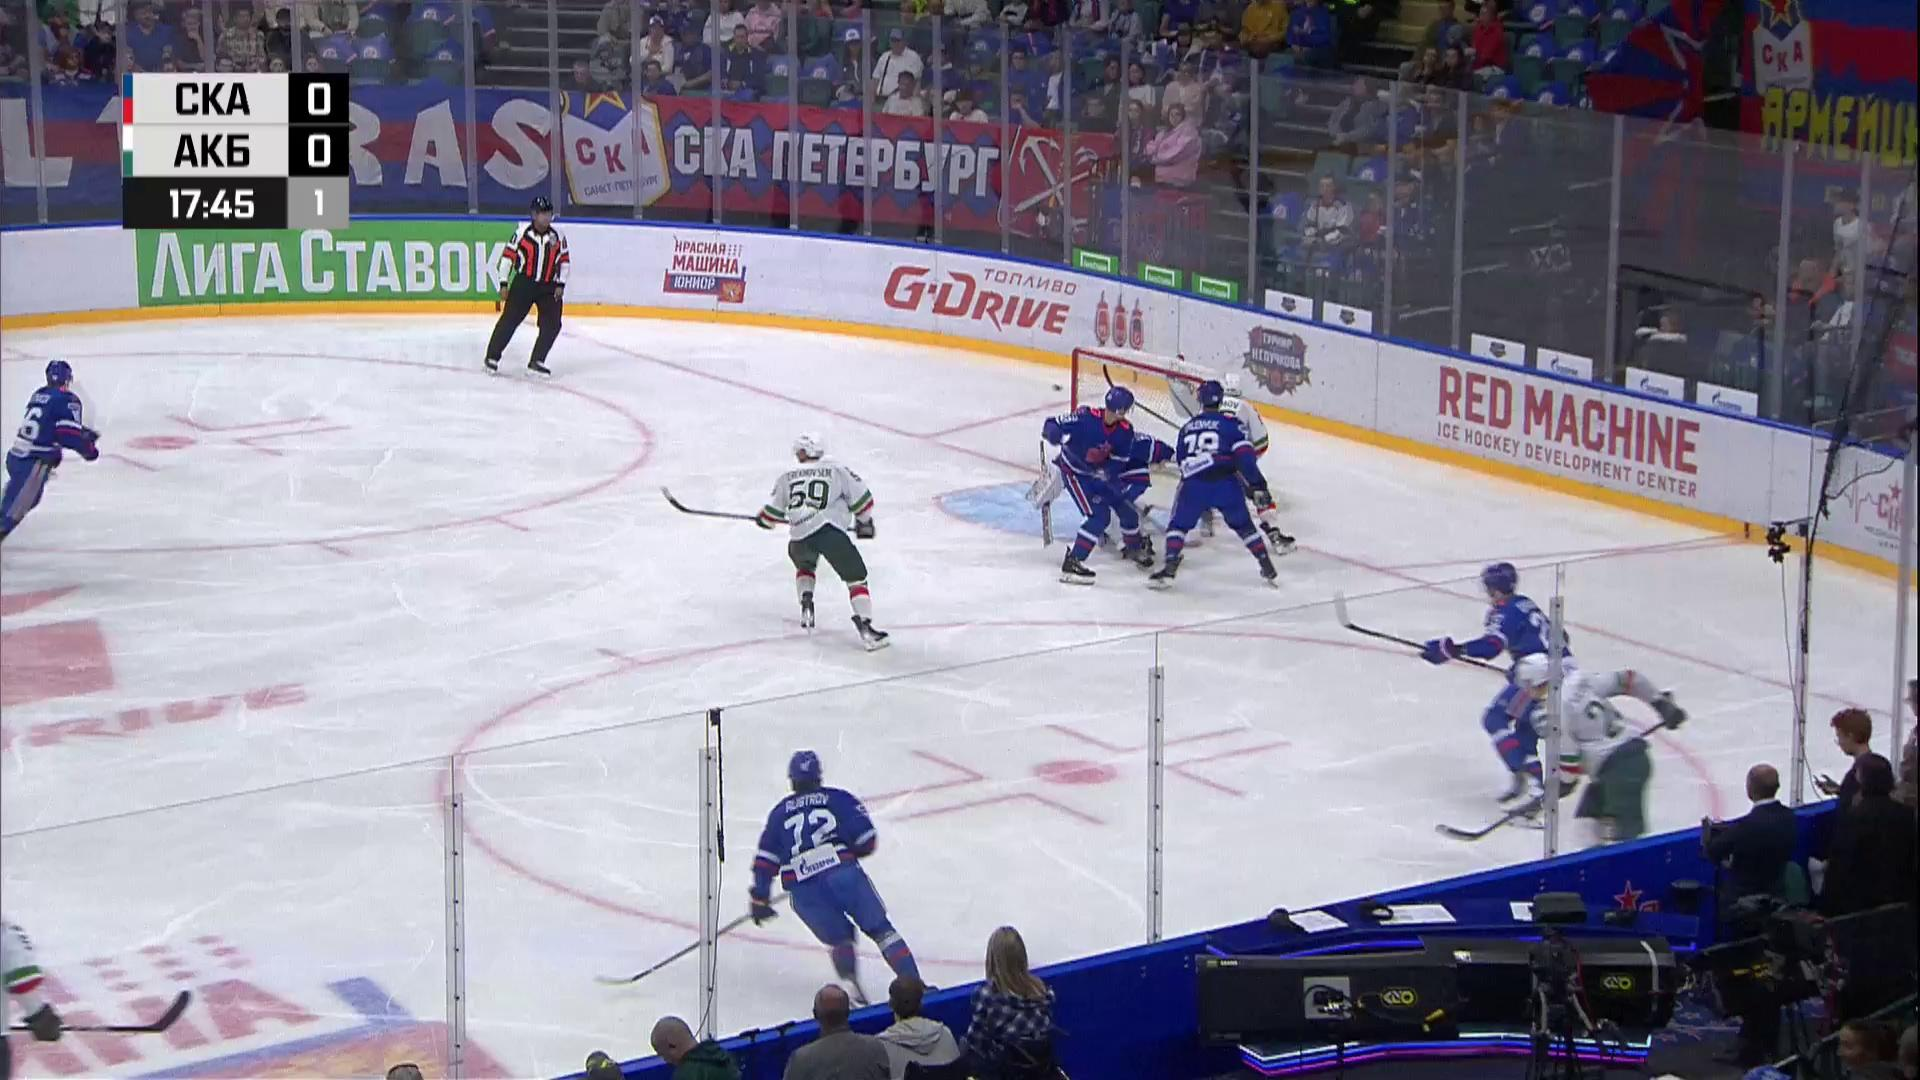ball: (1052, 384, 1063, 392)
